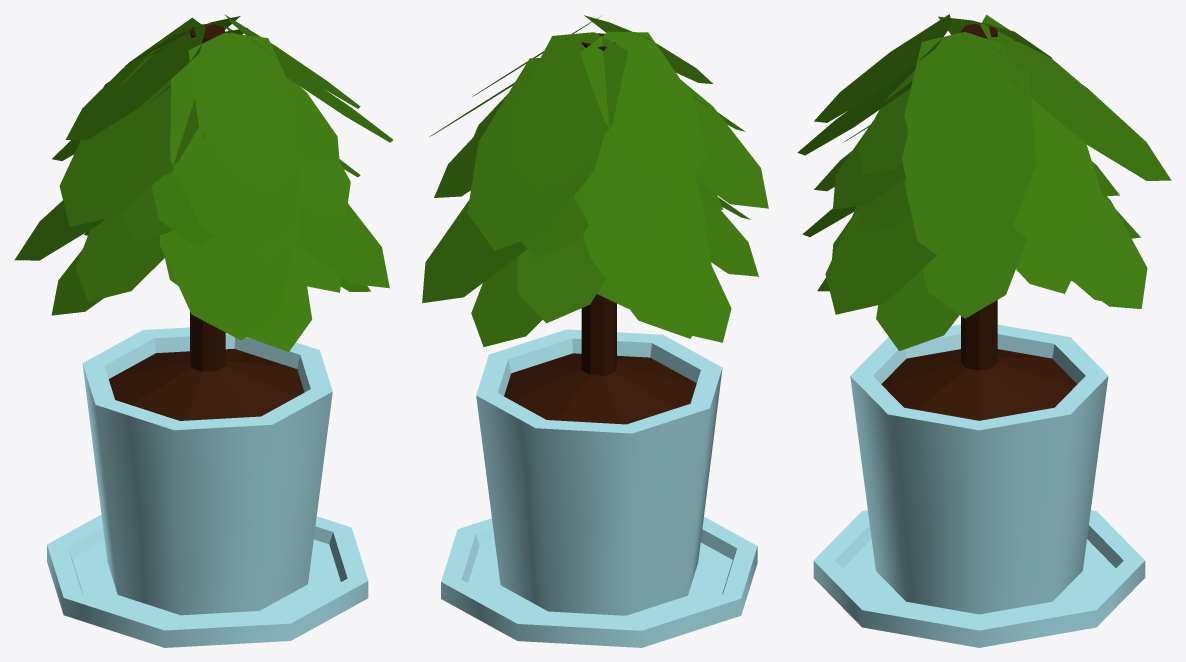
File: Plant_shattered(1).fbx
3 views of the same model, side by side, from view 1: azimuth 30°, elevation 25°; view 2: azimuth 150°, elevation 25°; view 3: azimuth 270°, elevation 25° (orthographic).
Visible parts, largest first — view 1: Cylinder003, Object009, Object010, Object011, Object012; view 2: Object009, Cylinder003, Object011, Object010, Object012; view 3: Cylinder003, Object009, Object010, Object011, Object012.
Part boxes in pixels (x1=…): Cylinder003: x1=82, y1=327, x2=332, y2=615; Object009: x1=14, y1=46, x2=393, y2=351; Object010: x1=98, y1=14, x2=344, y2=247; Object011: x1=47, y1=514, x2=368, y2=647; Object012: x1=190, y1=24, x2=225, y2=371; Object009: x1=422, y1=53, x2=768, y2=346; Cylinder003: x1=476, y1=329, x2=722, y2=615; Object011: x1=441, y1=516, x2=757, y2=647; Object010: x1=472, y1=15, x2=712, y2=267; Object012: x1=581, y1=33, x2=616, y2=375; Cylinder003: x1=850, y1=324, x2=1108, y2=614; Object009: x1=797, y1=52, x2=1171, y2=350; Object010: x1=854, y1=14, x2=1110, y2=271; Object011: x1=813, y1=510, x2=1145, y2=647; Object012: x1=961, y1=24, x2=997, y2=370.
Bounding box in the file's own units: 75.13 × 120 × 73.56.
